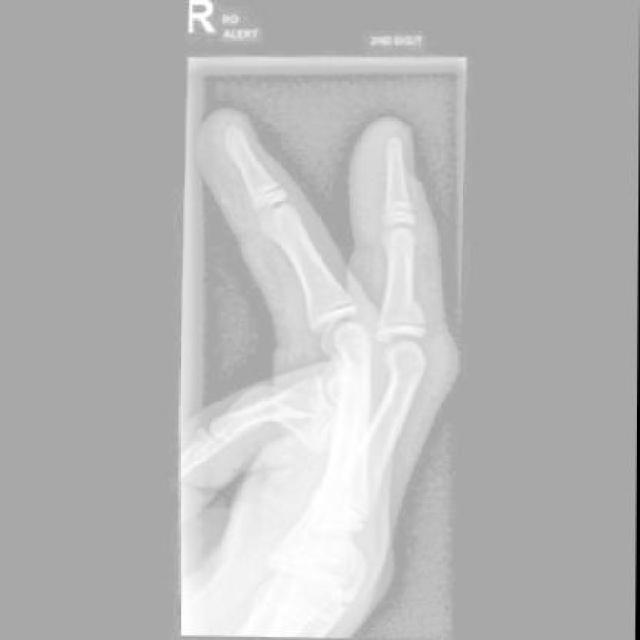Fracture: (400, 302, 425, 328)
